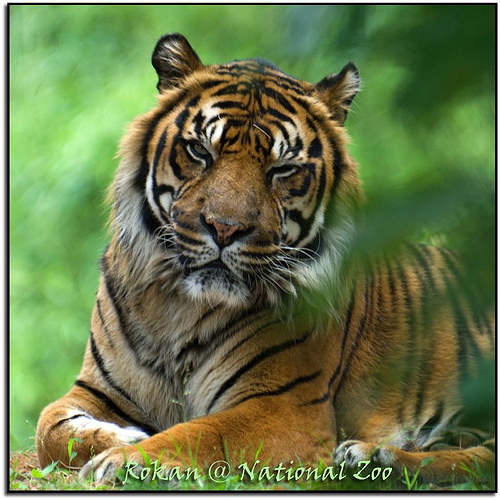Tigre: (93, 27, 446, 442)
